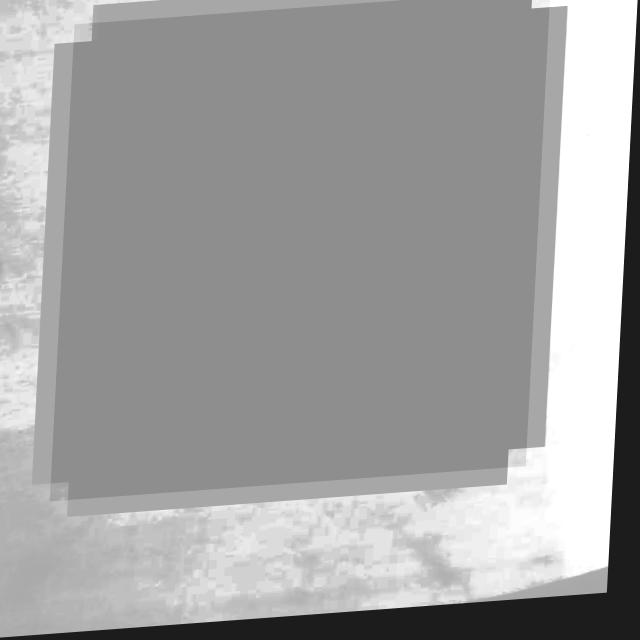qr_code: (55, 0, 551, 503)
